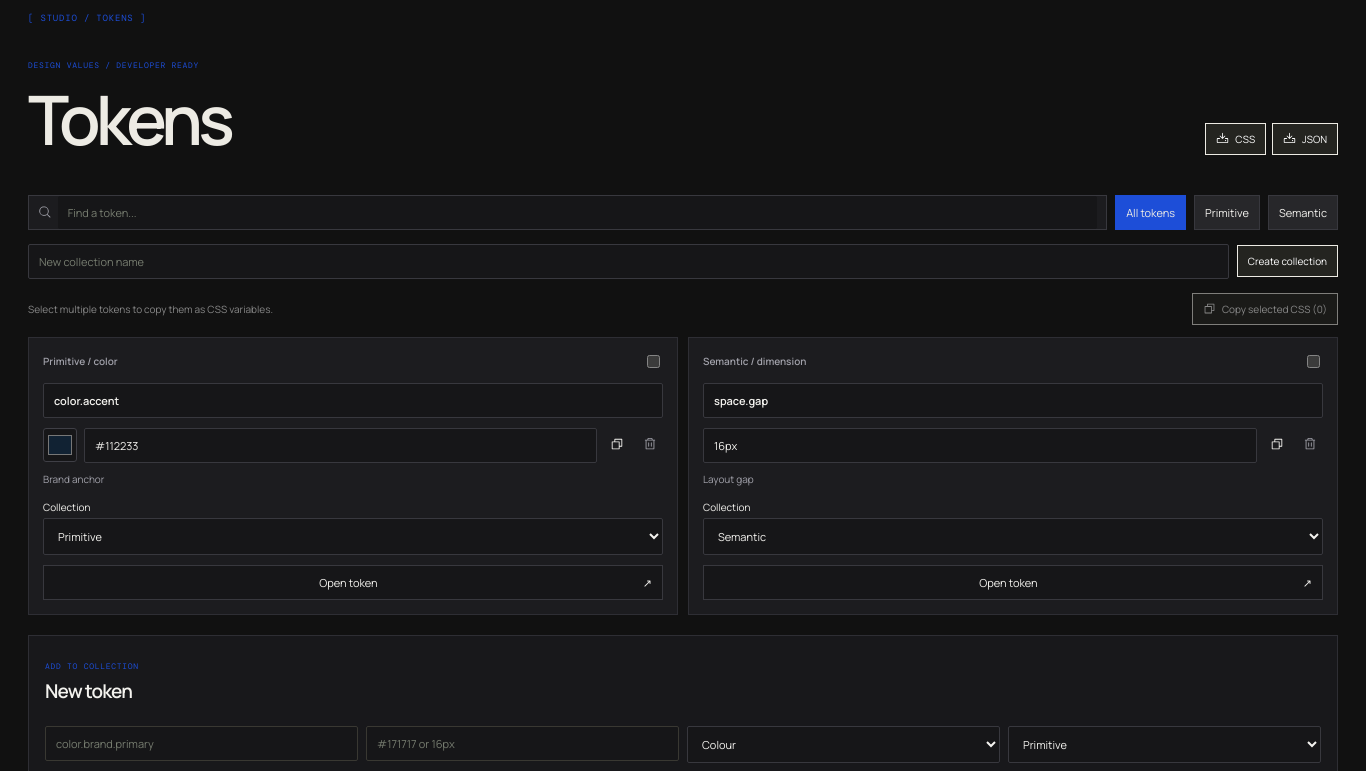
removes a selected token from storage and clears its selected-copy state
The image size is (1366, 771).
Click the checkbox named "Select color.accent".
click(654, 361)  # box 647,355 -> 660,368
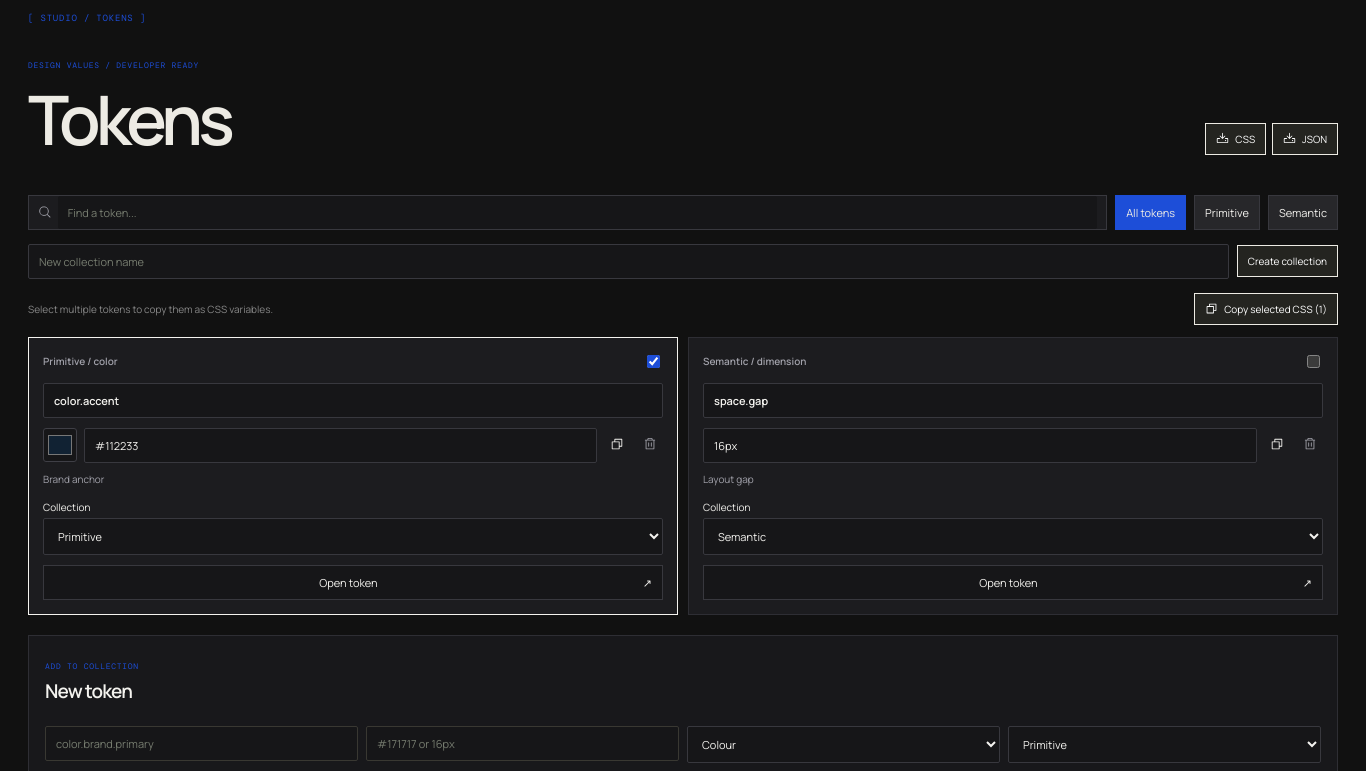
Check: the button "Copy selected CSS (1)" is enabled, box 1194,293 -> 1338,325
Click the 1st button titled "Delete token".
click(650, 445)  # box 637,433 -> 663,457
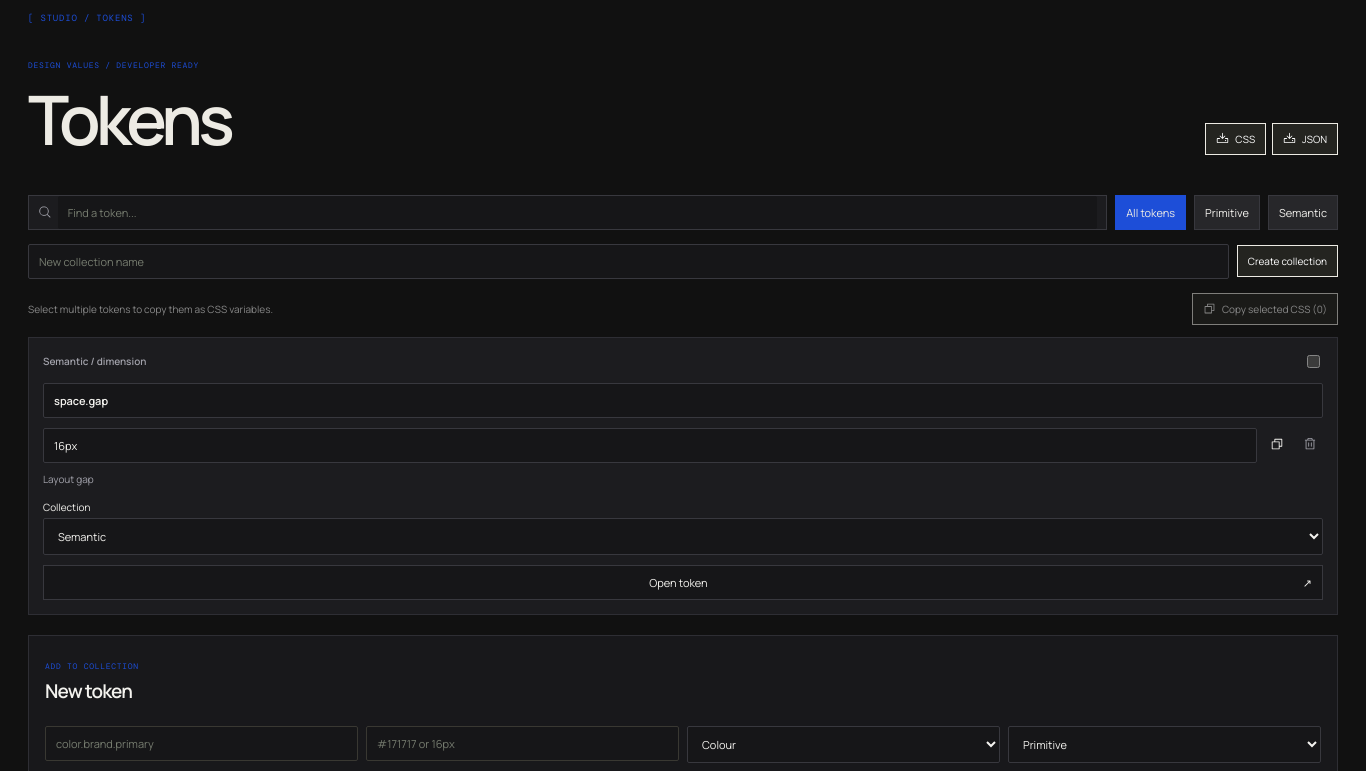
Check: the button "Copy selected CSS (0)" is disabled, box 1192,293 -> 1338,325
